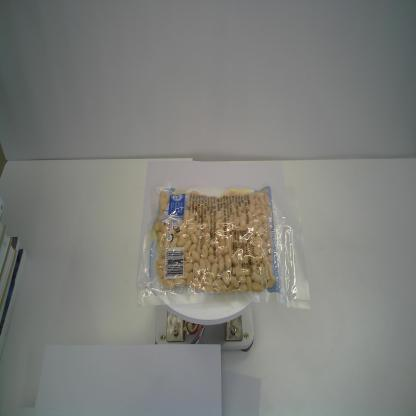Dried Fruit: (130, 177, 312, 315)
